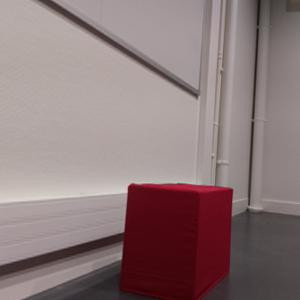medium: (118, 180, 233, 300)
